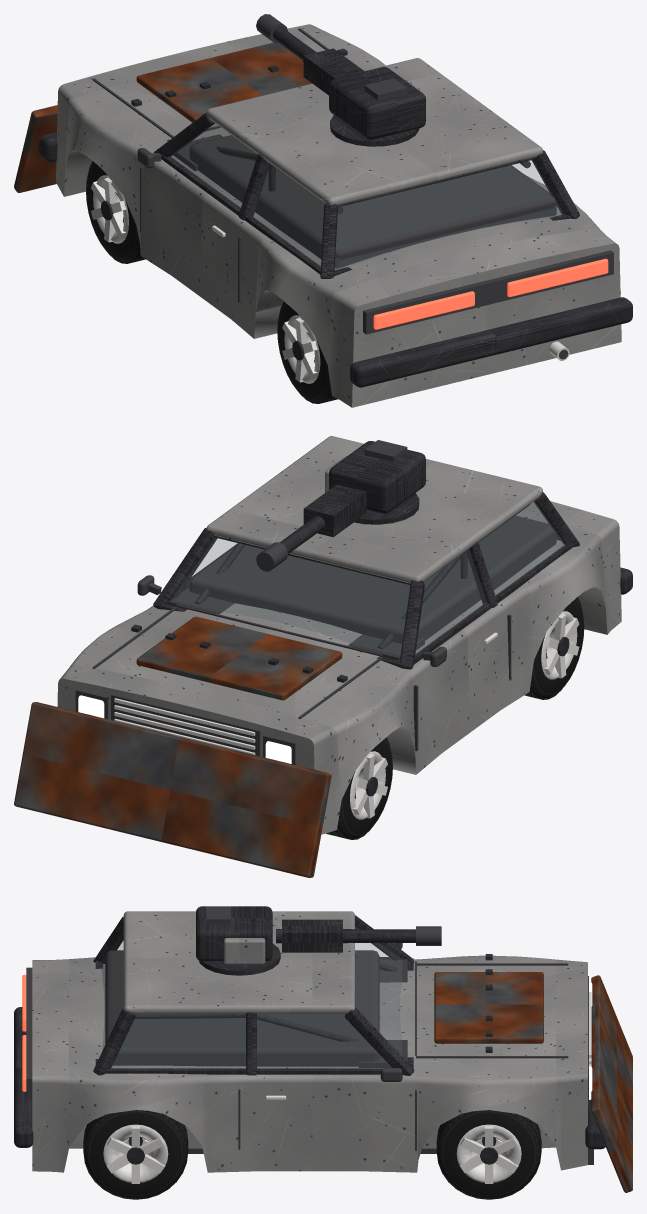
File: enemy_raider_b.glb
The picture shows the model from 3 angles, top to bottom: view 1: azimuth 30°, elevation 25°; view 2: azimuth 150°, elevation 25°; view 3: azimuth 270°, elevation 25°; orthographic projection. The views are drawn at different scales.
Visible parts, largest first — view 1: raiderB_Body, Turret, Wheel_RL, Wheel_FL, Barrel; view 2: raiderB_Body, Turret, Wheel_FL, Barrel, Wheel_RL; view 3: raiderB_Body, Wheel_FR, Wheel_RR, Turret, Barrel.
Boxes of the visible parts, x1,y1,x2,y2 form: raiderB_Body: [14, 24, 632, 407]; Turret: [329, 67, 425, 146]; Wheel_RL: [277, 301, 337, 403]; Wheel_FL: [86, 161, 145, 263]; Barrel: [256, 14, 364, 95]; raiderB_Body: [14, 436, 632, 877]; Turret: [325, 440, 425, 524]; Wheel_FL: [326, 737, 392, 839]; Barrel: [256, 484, 366, 571]; Wheel_RL: [524, 597, 584, 699]; raiderB_Body: [14, 911, 632, 1192]; Wheel_FR: [436, 1110, 541, 1199]; Wheel_RR: [83, 1110, 188, 1199]; Turret: [196, 906, 280, 975]; Barrel: [276, 919, 441, 952].
Size of what is drawn, in the model's own units: 2.68 by 2.09 by 5.08.
9 materials, 4 textured.
